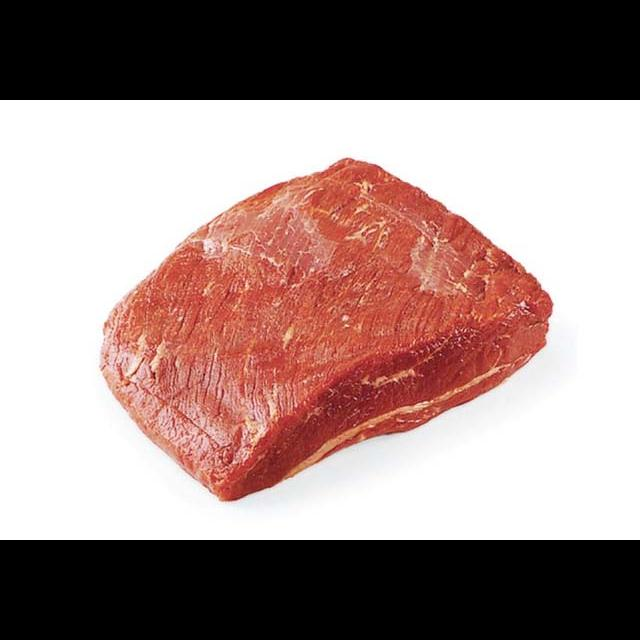beef: (86, 149, 567, 512)
